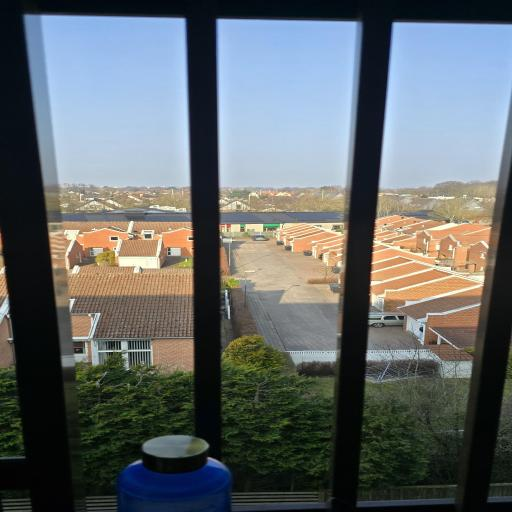bottle: (133, 433, 242, 512)
